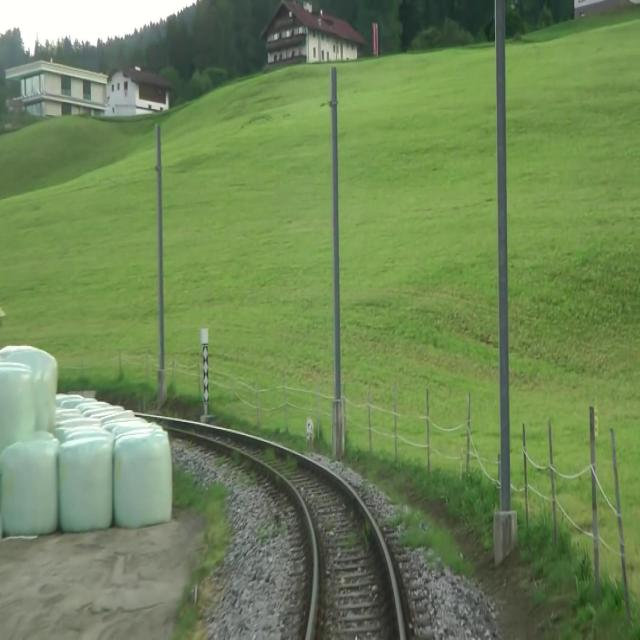rail-track: (149, 420, 399, 639)
